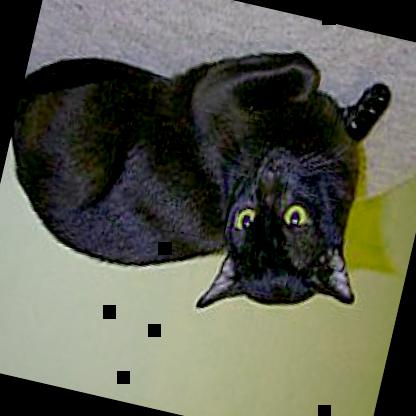cat: (0, 0, 408, 344)
